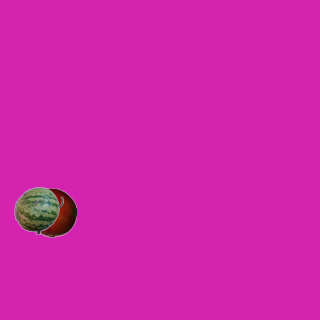Apple Braeburn: (26, 187, 76, 237)
Watermelon: (13, 185, 63, 235)
